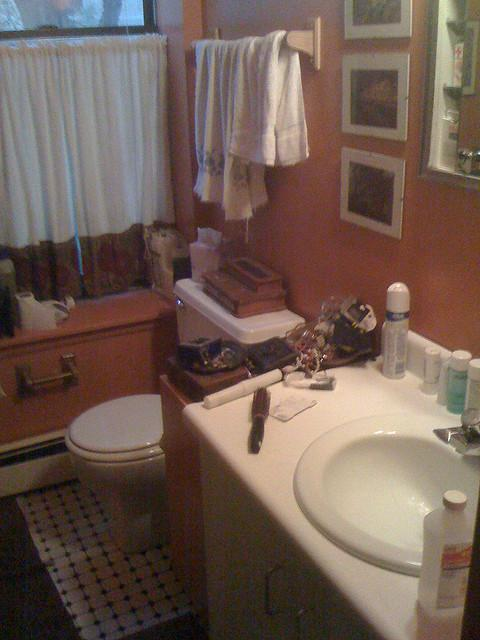Lavamanos: (290, 388, 479, 584)
Sanitario: (58, 284, 295, 557)
